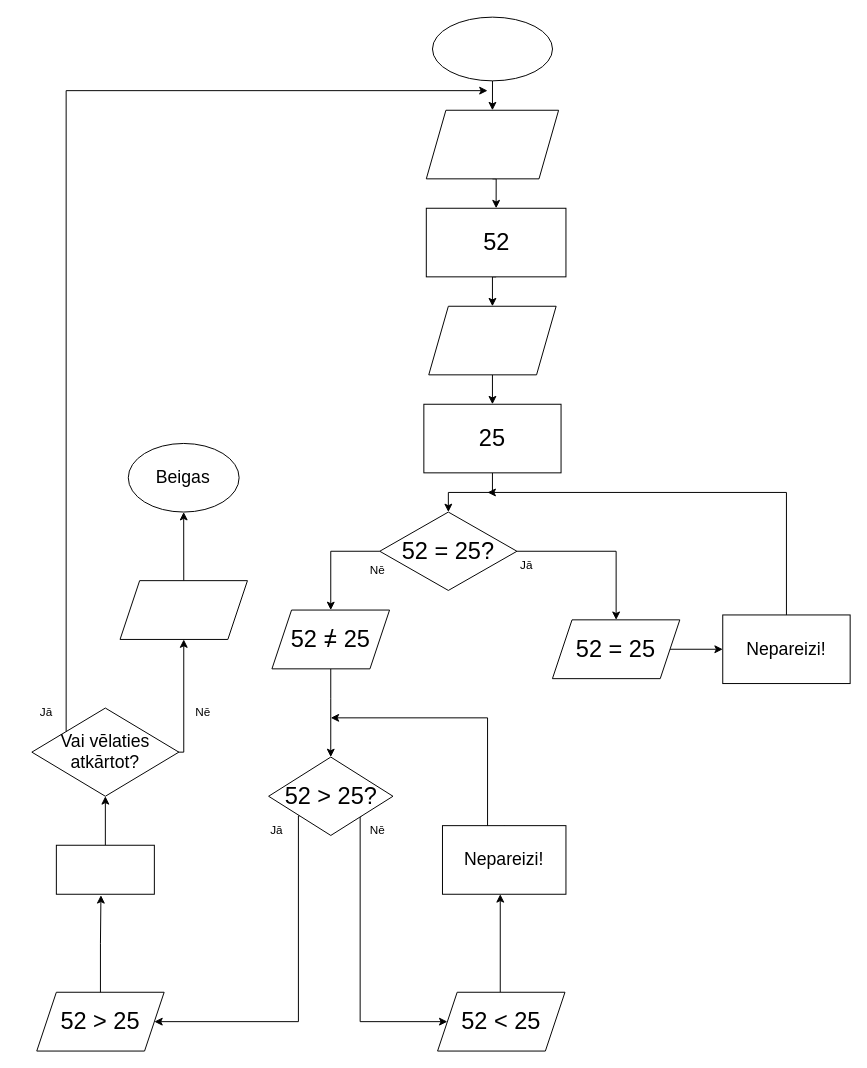
Image size: 867x1068. Some labels were removed from this diagram. The centre of each missing label's shape, as x and y in pixels:
"Ievadi otro skaitli" belongs at [492,340].
"Ievadi pirmo skaitli" belongs at [492,144].
"Pareizi!" belongs at [104,869].
"Programma beigusies" belongs at [183,609].
"Sākums" belongs at [492,48].
